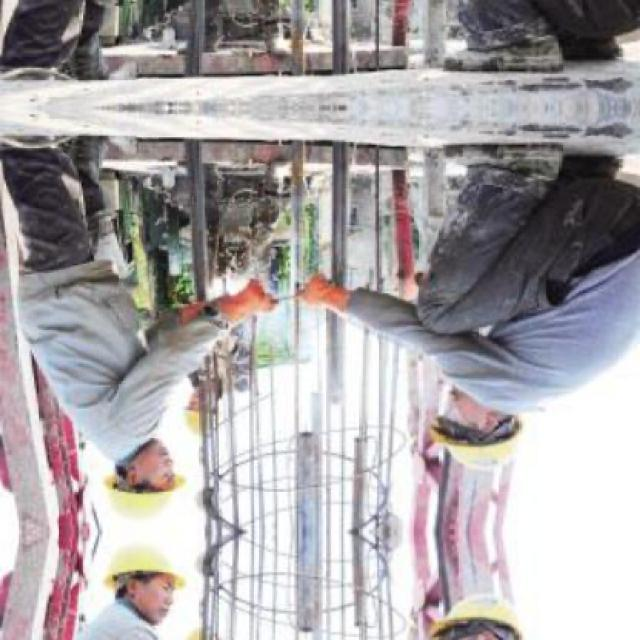con casco: (64, 404, 197, 534), (438, 360, 547, 494)
